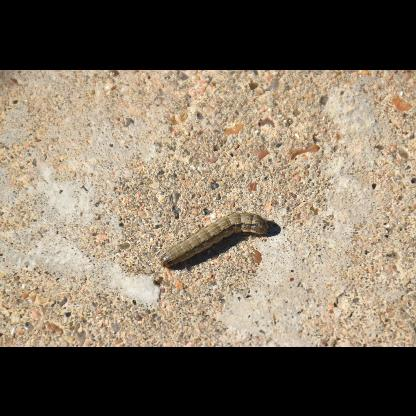Fall Armyworm Larvae: (159, 209, 271, 269)
